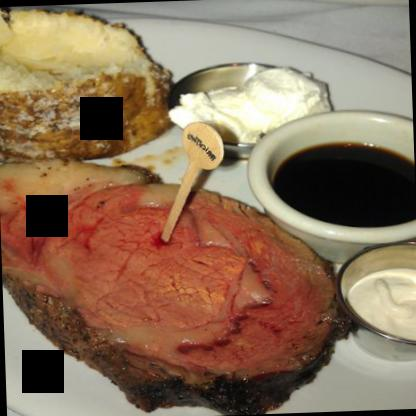beef: (0, 158, 336, 414)
